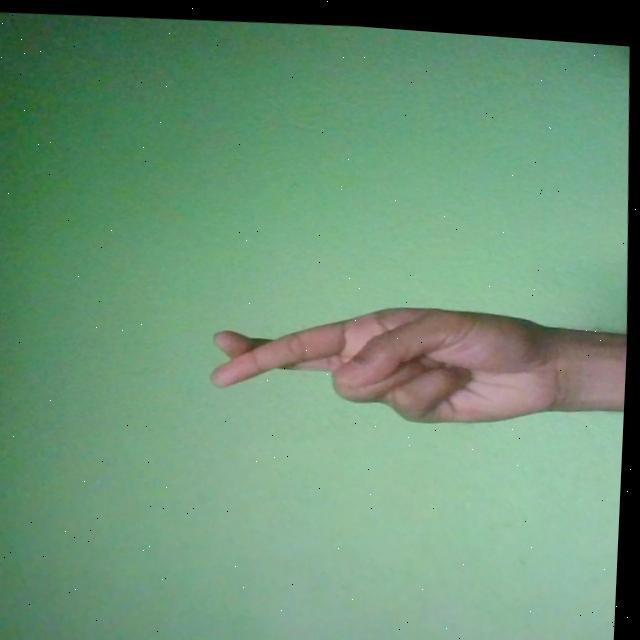Good Luck: (209, 280, 582, 432)
